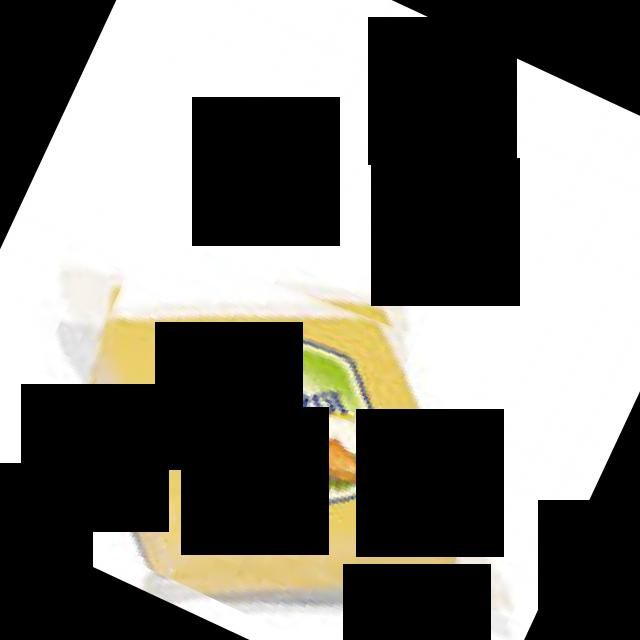cheese: (15, 203, 538, 640)
